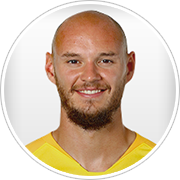face: (41, 35, 137, 119)
